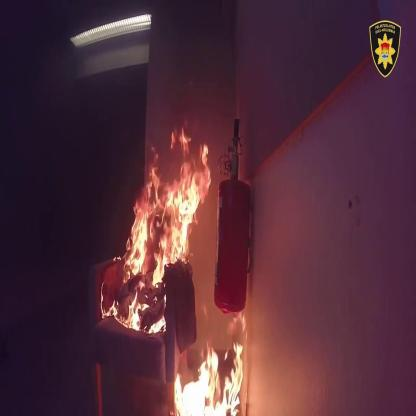Fire: (110, 98, 208, 309), (172, 348, 245, 416)
